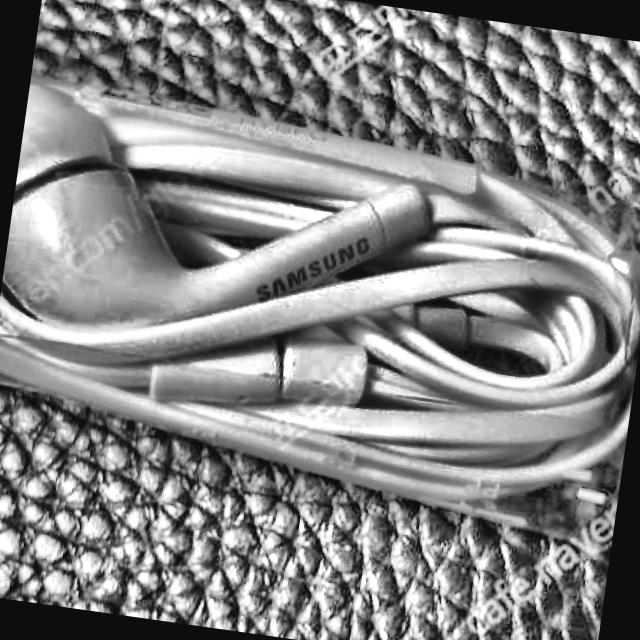Cable: (0, 70, 640, 538)
